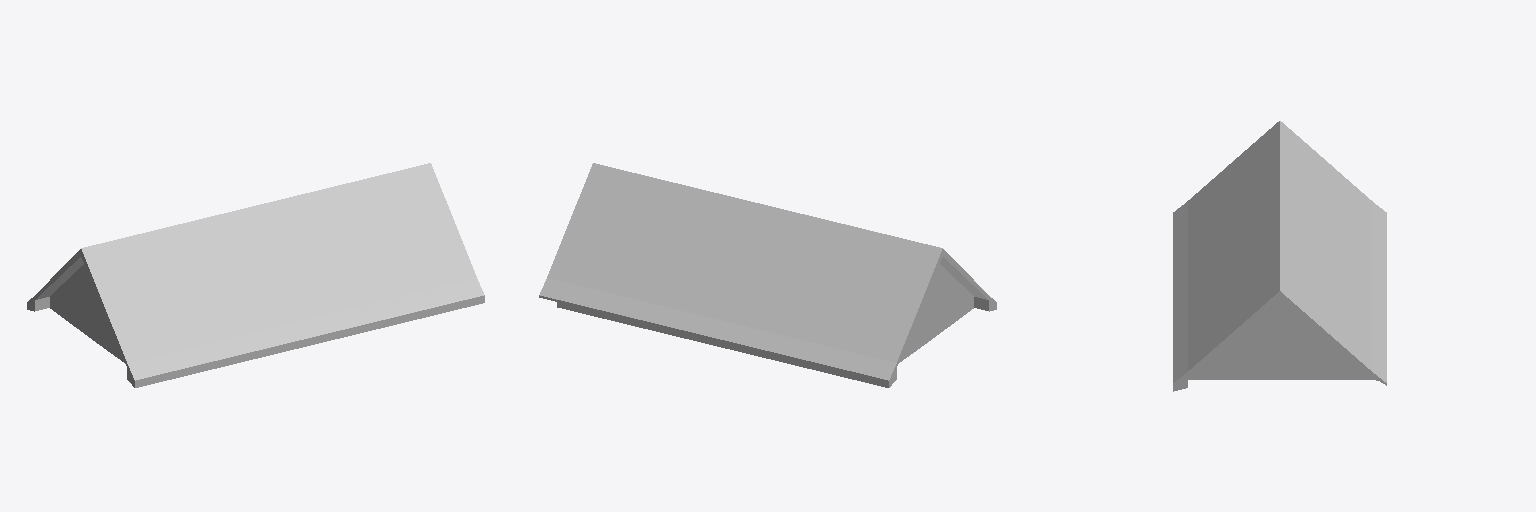
Rendered from roof_1.obj.
3 views of the same model, side by side, from view 1: azimuth 30°, elevation 25°; view 2: azimuth 150°, elevation 25°; view 3: azimuth 270°, elevation 25° (orthographic).
Visible parts, largest first — view 1: Cube.005; view 2: Cube.005; view 3: Cube.005.
Boxes of the visible parts, box(x1,y1,x2,y2) form: Cube.005: box(27, 163, 484, 387); Cube.005: box(539, 163, 996, 387); Cube.005: box(1173, 121, 1386, 391).
Bounding box in the file's own units: 13.11 × 3.61 × 6.98.